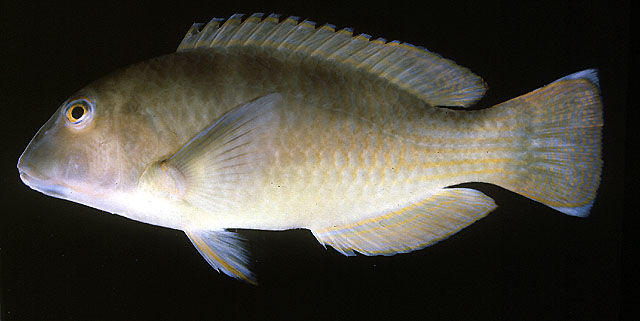fish: (17, 14, 604, 280)
